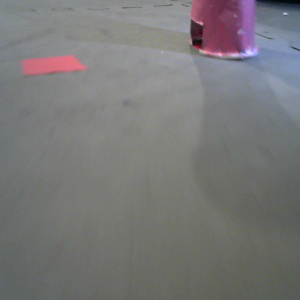right: (186, 1, 264, 57)
